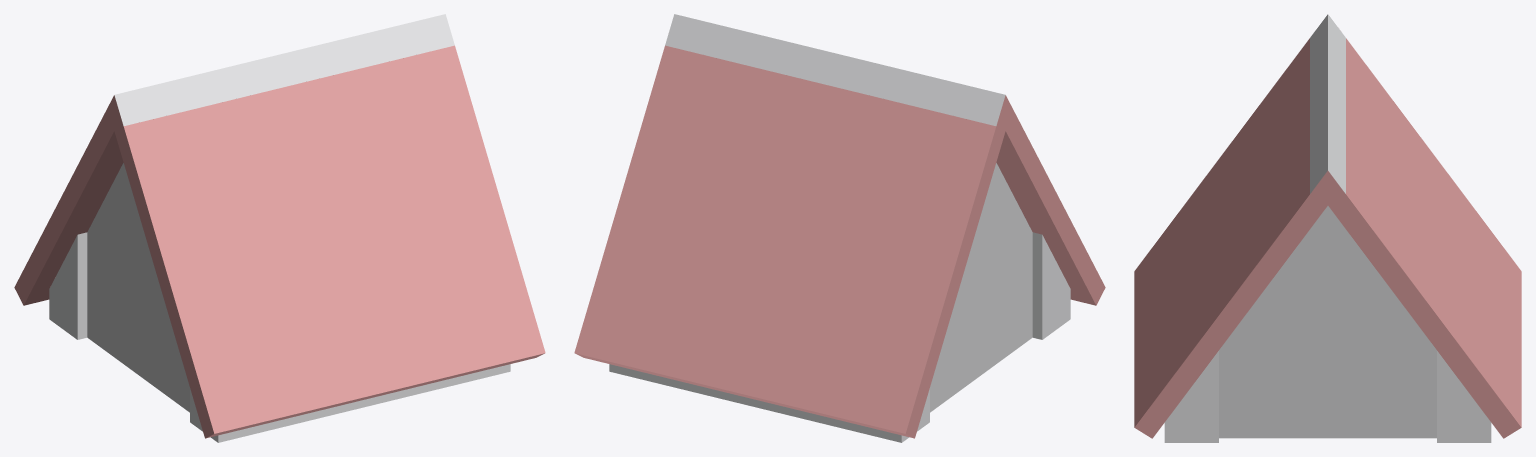
File: Roof_Straight_Red_01.glb
3 renders of one model, left to right at view 1: azimuth 30°, elevation 25°; view 2: azimuth 150°, elevation 25°; view 3: azimuth 270°, elevation 25°, orthographic. The views are drawn at different scales.
Parts seen in each view (by area): view 1: Roof_Straight_Red_01; view 2: Roof_Straight_Red_01; view 3: Roof_Straight_Red_01.
Boxes of the visible parts, box(x1,y1,x2,y2) form: Roof_Straight_Red_01: box(14, 14, 545, 442); Roof_Straight_Red_01: box(574, 14, 1105, 442); Roof_Straight_Red_01: box(1134, 14, 1521, 442).
Size of the model in its own units: 3.4 by 2.86 by 3.56.
